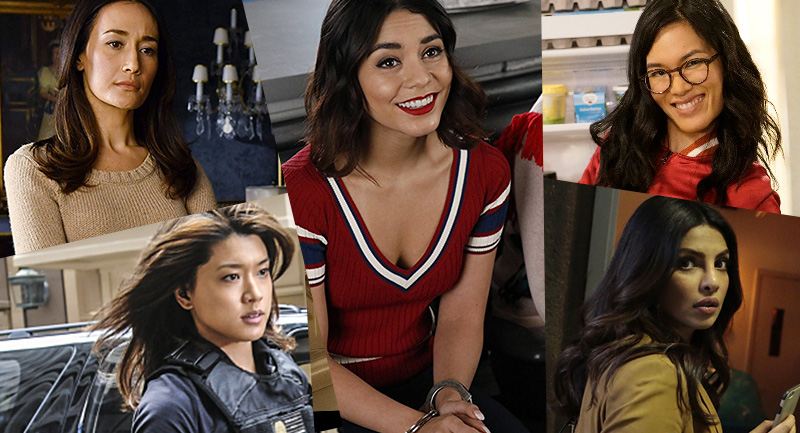bare: (362, 65, 464, 135), (185, 282, 275, 342), (645, 80, 732, 133), (662, 274, 733, 331), (82, 57, 158, 109)
